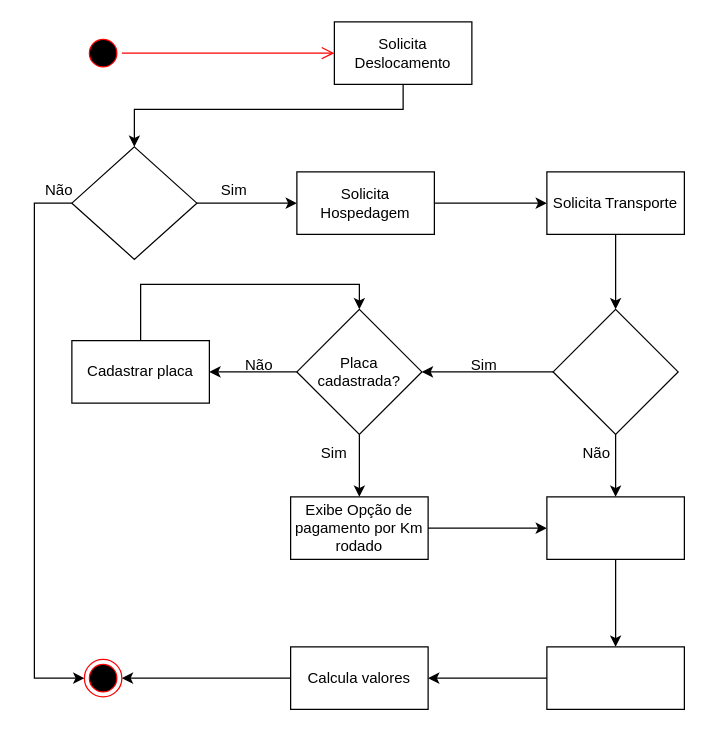
Some shapes in this 706 by 731 pixel diagram are drawn without their labels. The box of each missing label's shape, as (x1, y1, x2, y2) in pixels:
Exibe opções de transporte: (546, 496, 684, 559)
Seleciona opção de transporter: (546, 646, 684, 709)
Solicitação aprovada?: (71, 146, 197, 259)
É gerente?: (552, 308, 678, 434)
